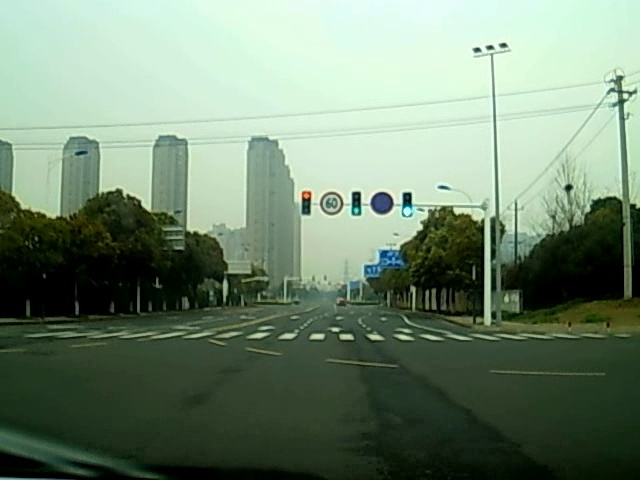Traffic_Light_go: (350, 191, 363, 218), (402, 193, 412, 217)
Traffic_Light_stop: (302, 191, 311, 219)
